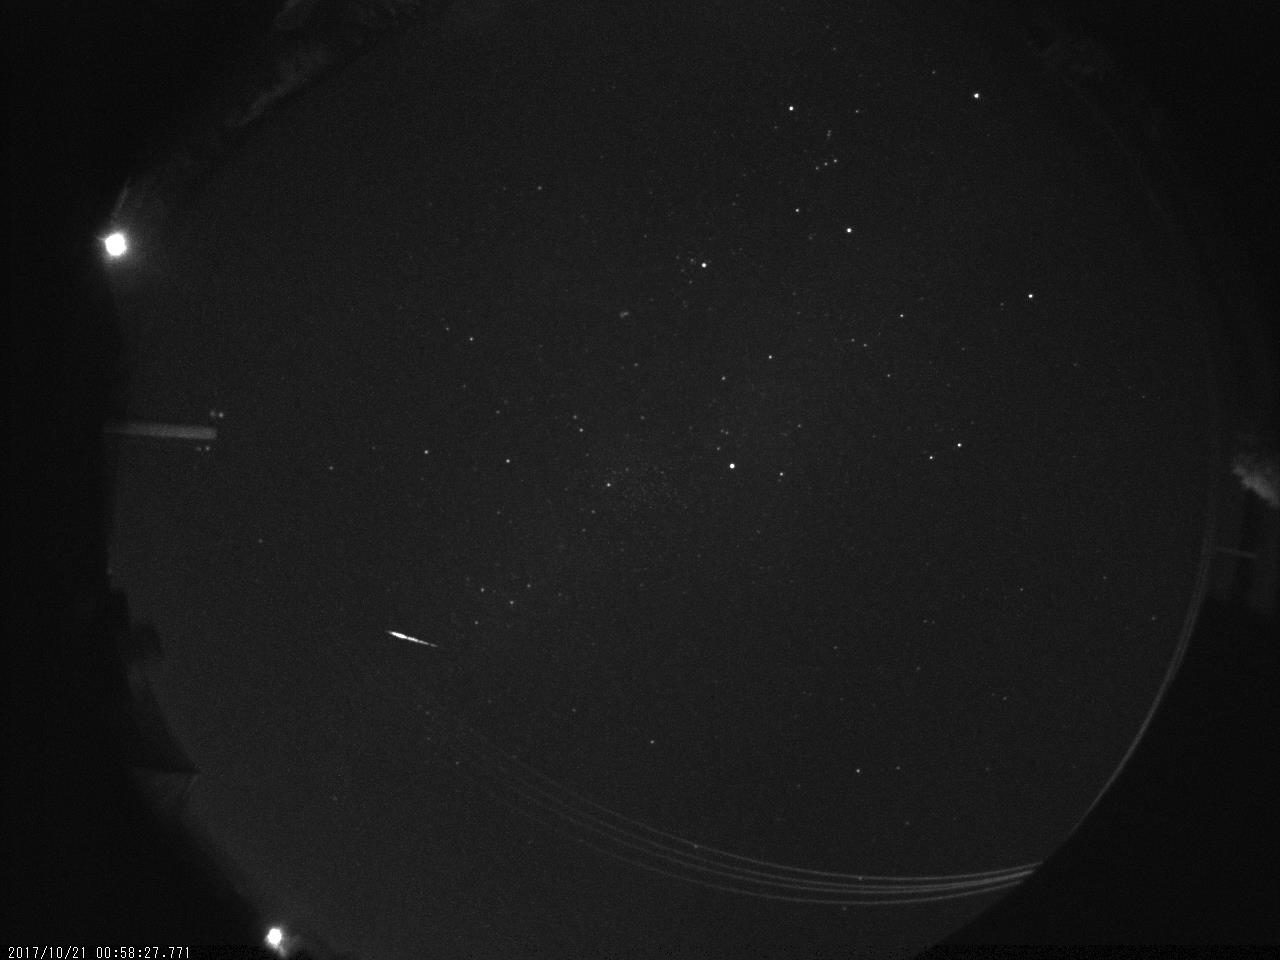meteor: (372, 614, 459, 666)
